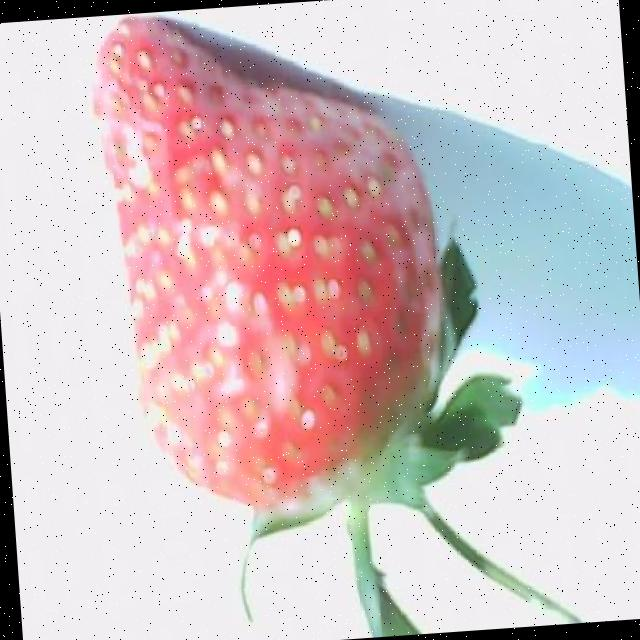strawberry: (94, 18, 579, 637)
